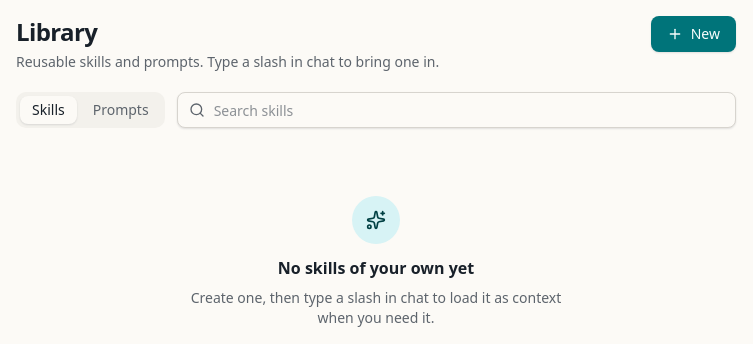
it: load failures and semantics › does the same for prompts and keeps the list a list of items with their own buttons
Check: the heading "No skills of your own yet" is shown, box [278,256,474,280]
Click the tab "Prompts" at (121, 110), box [81,96,161,124]
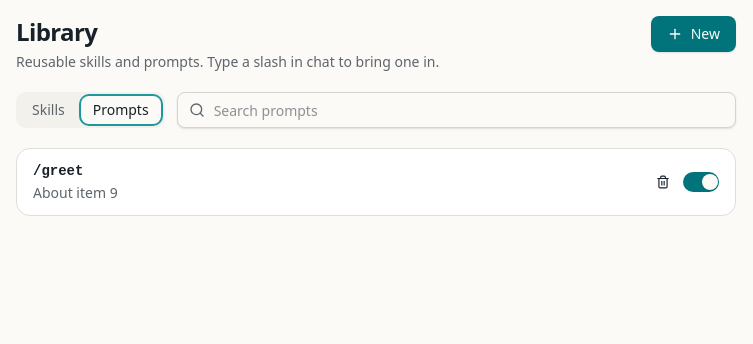
Check: the text "/greet" is shown, box [33,161,83,181]
Check: the button "/greet About item 9" is shown, box [33,161,639,203]
Check: the switch named "Turn greet on or off" is shown, box [683,172,719,192]
